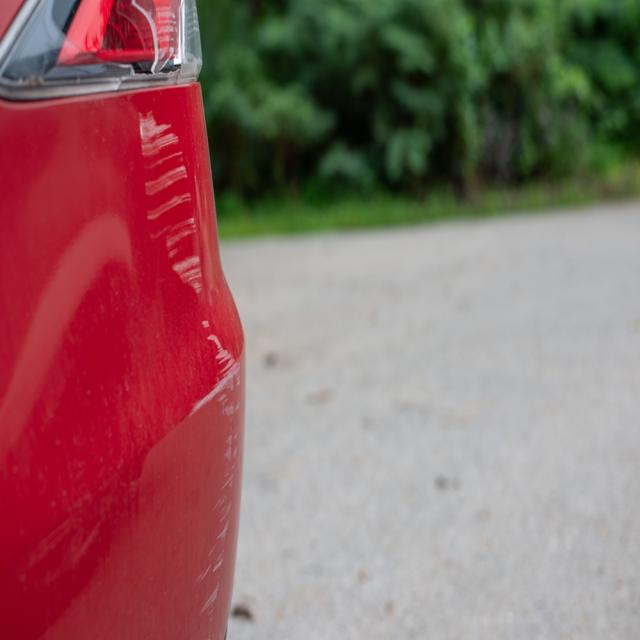lamp broken: (0, 0, 203, 98)
scratch: (134, 108, 239, 622)
